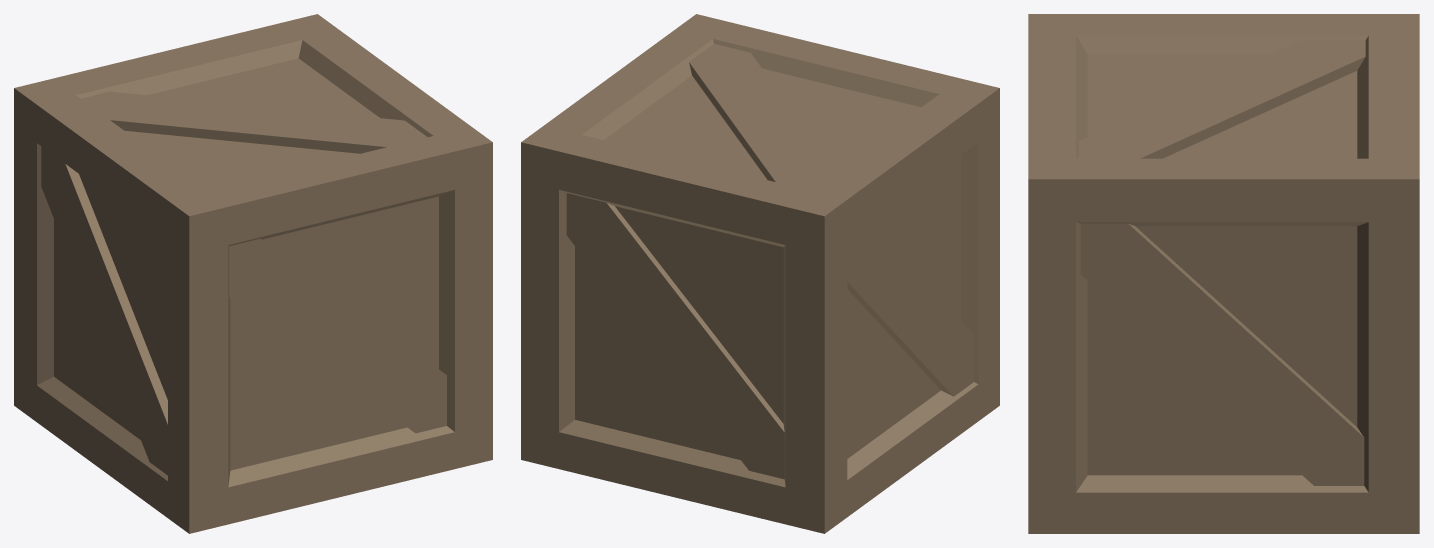
Rendered from Caja.fbx.
3 views of the same model, side by side, from view 1: azimuth 30°, elevation 25°; view 2: azimuth 150°, elevation 25°; view 3: azimuth 270°, elevation 25° (orthographic). The views are drawn at different scales.
Visible parts, largest first — view 1: polySurface92; view 2: polySurface92; view 3: polySurface92.
Boxes of the visible parts, box(x1,y1,x2,y2) form: polySurface92: box(14, 14, 492, 533); polySurface92: box(521, 14, 999, 533); polySurface92: box(1028, 14, 1419, 533).
Bounding box in the file's own units: 1.37 × 1.37 × 1.37.
